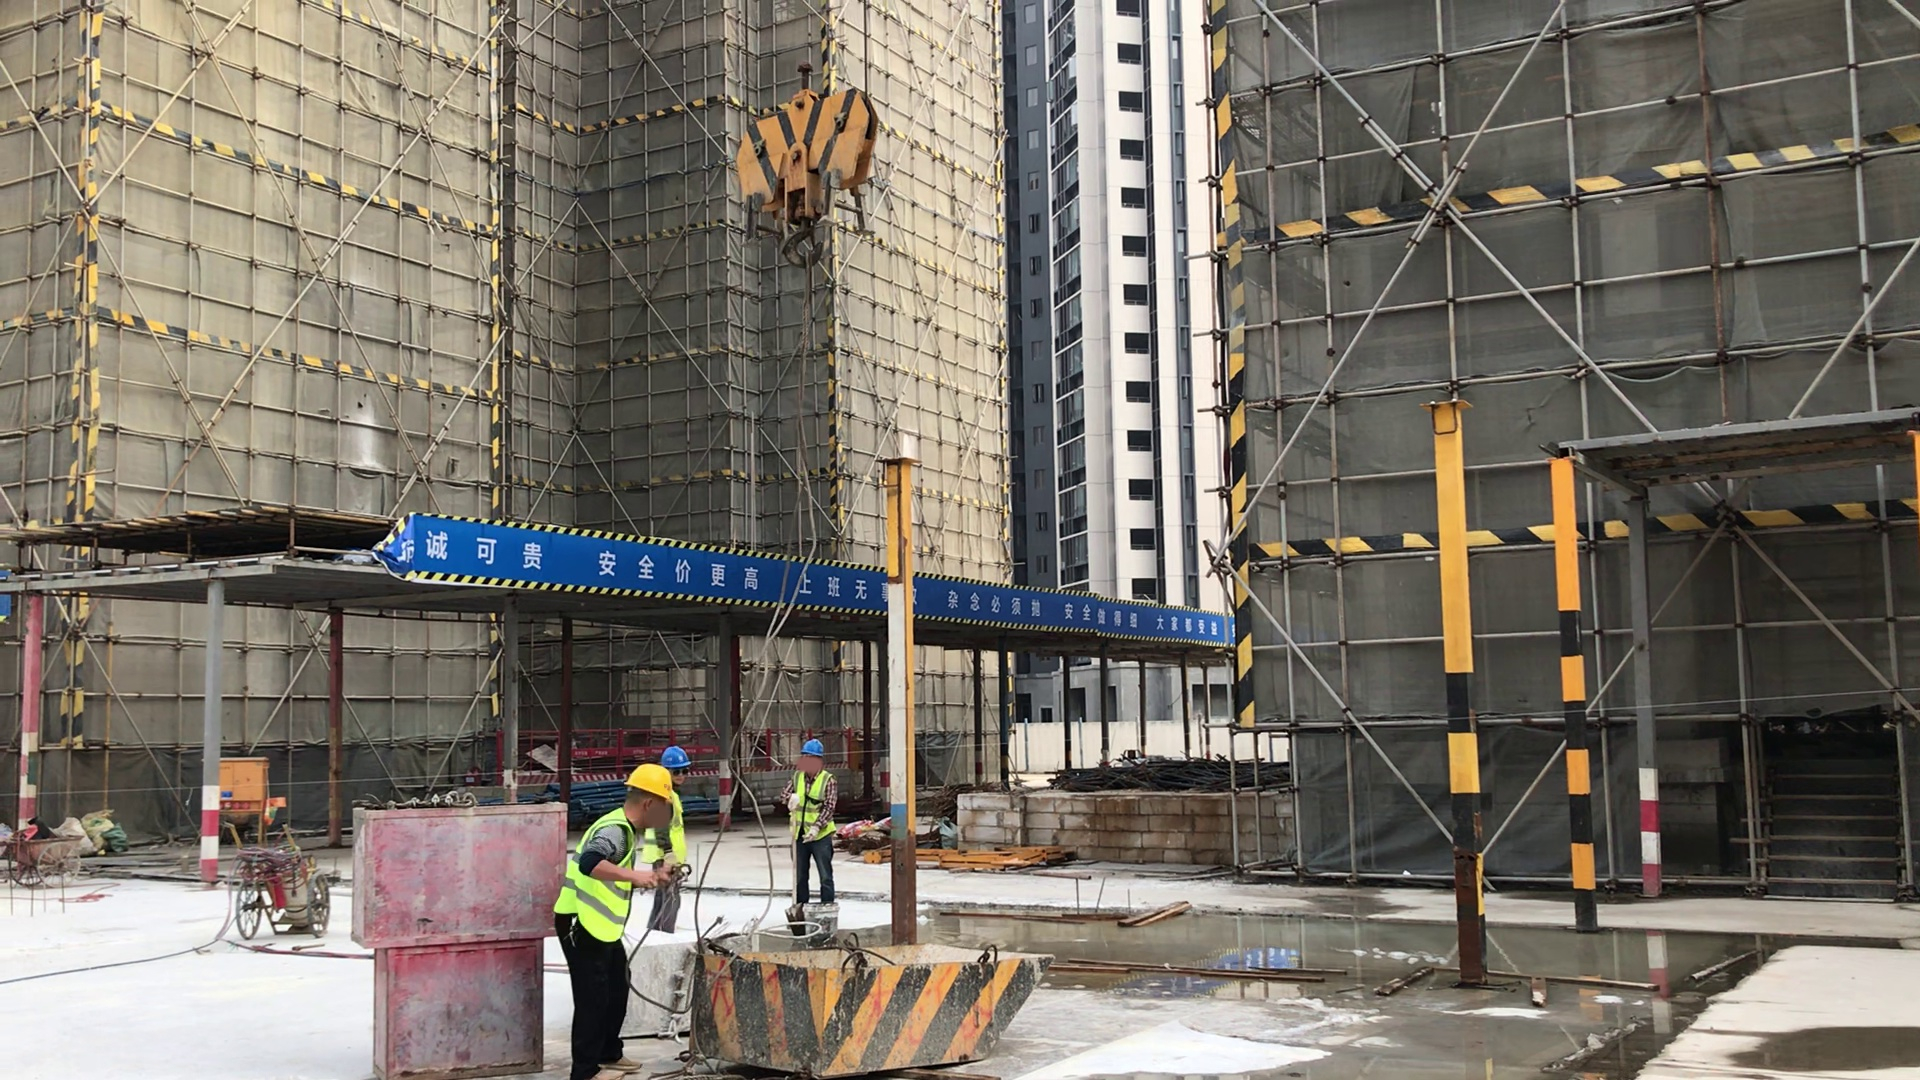ebox: (219, 754, 269, 844)
fence: (577, 728, 625, 781), (522, 729, 557, 785), (750, 728, 790, 770), (829, 731, 854, 769)
handcart: (222, 813, 336, 946), (4, 826, 88, 891)
helmet: (630, 764, 675, 800), (659, 744, 690, 770), (800, 741, 825, 758)
hook: (729, 53, 885, 274)
hopper: (691, 935, 1065, 1069)
person: (551, 761, 681, 1080), (648, 738, 691, 941), (791, 739, 843, 909)
slogan: (406, 509, 895, 615), (917, 572, 1233, 656)
vest: (550, 806, 636, 944), (787, 769, 838, 842), (644, 794, 690, 868)
